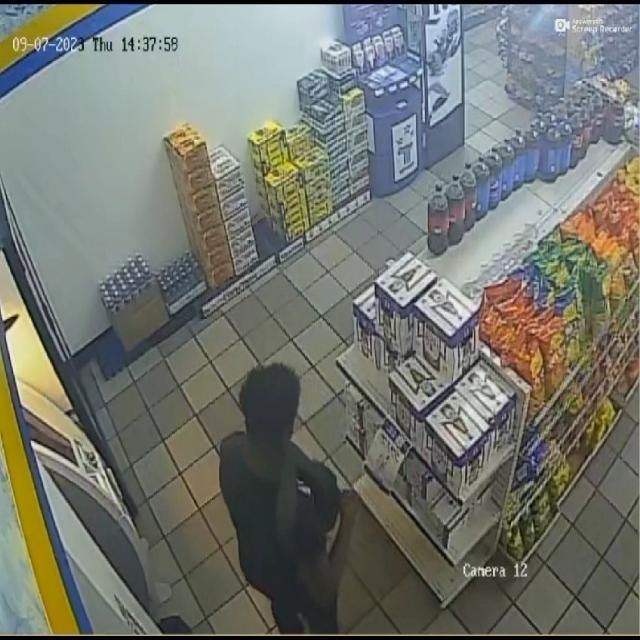normal: (200, 329, 374, 640)
